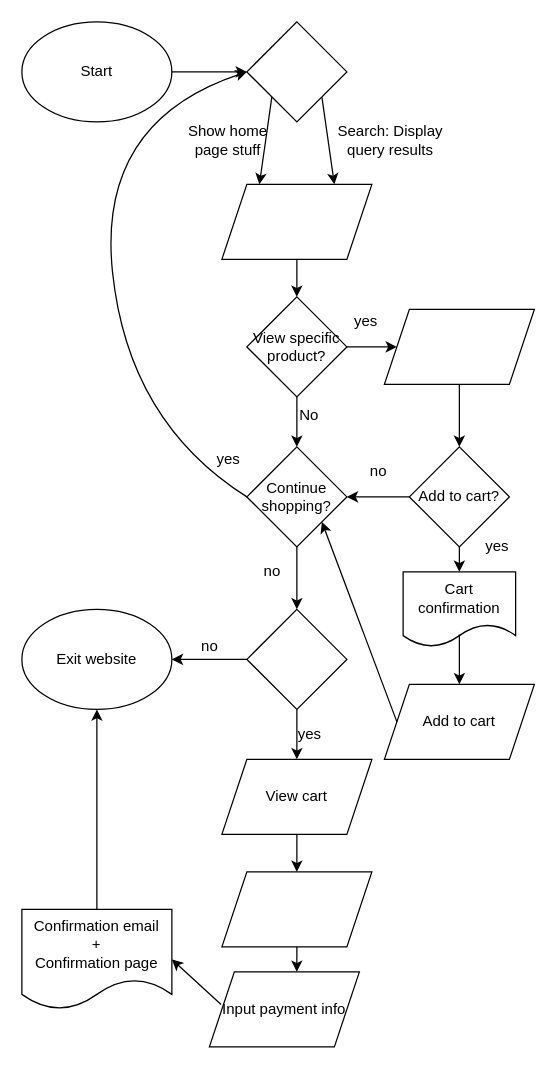
This 556x1069 diagram has some shape labels left out. The centre of each missing label's shape, as x and y in pixels:
Checkout?: pixel 296 658
Display specific product: pixel 458 346
Products displayed: pixel 296 221
Search or Browse: pixel 296 71
View payment: pixel 296 909
